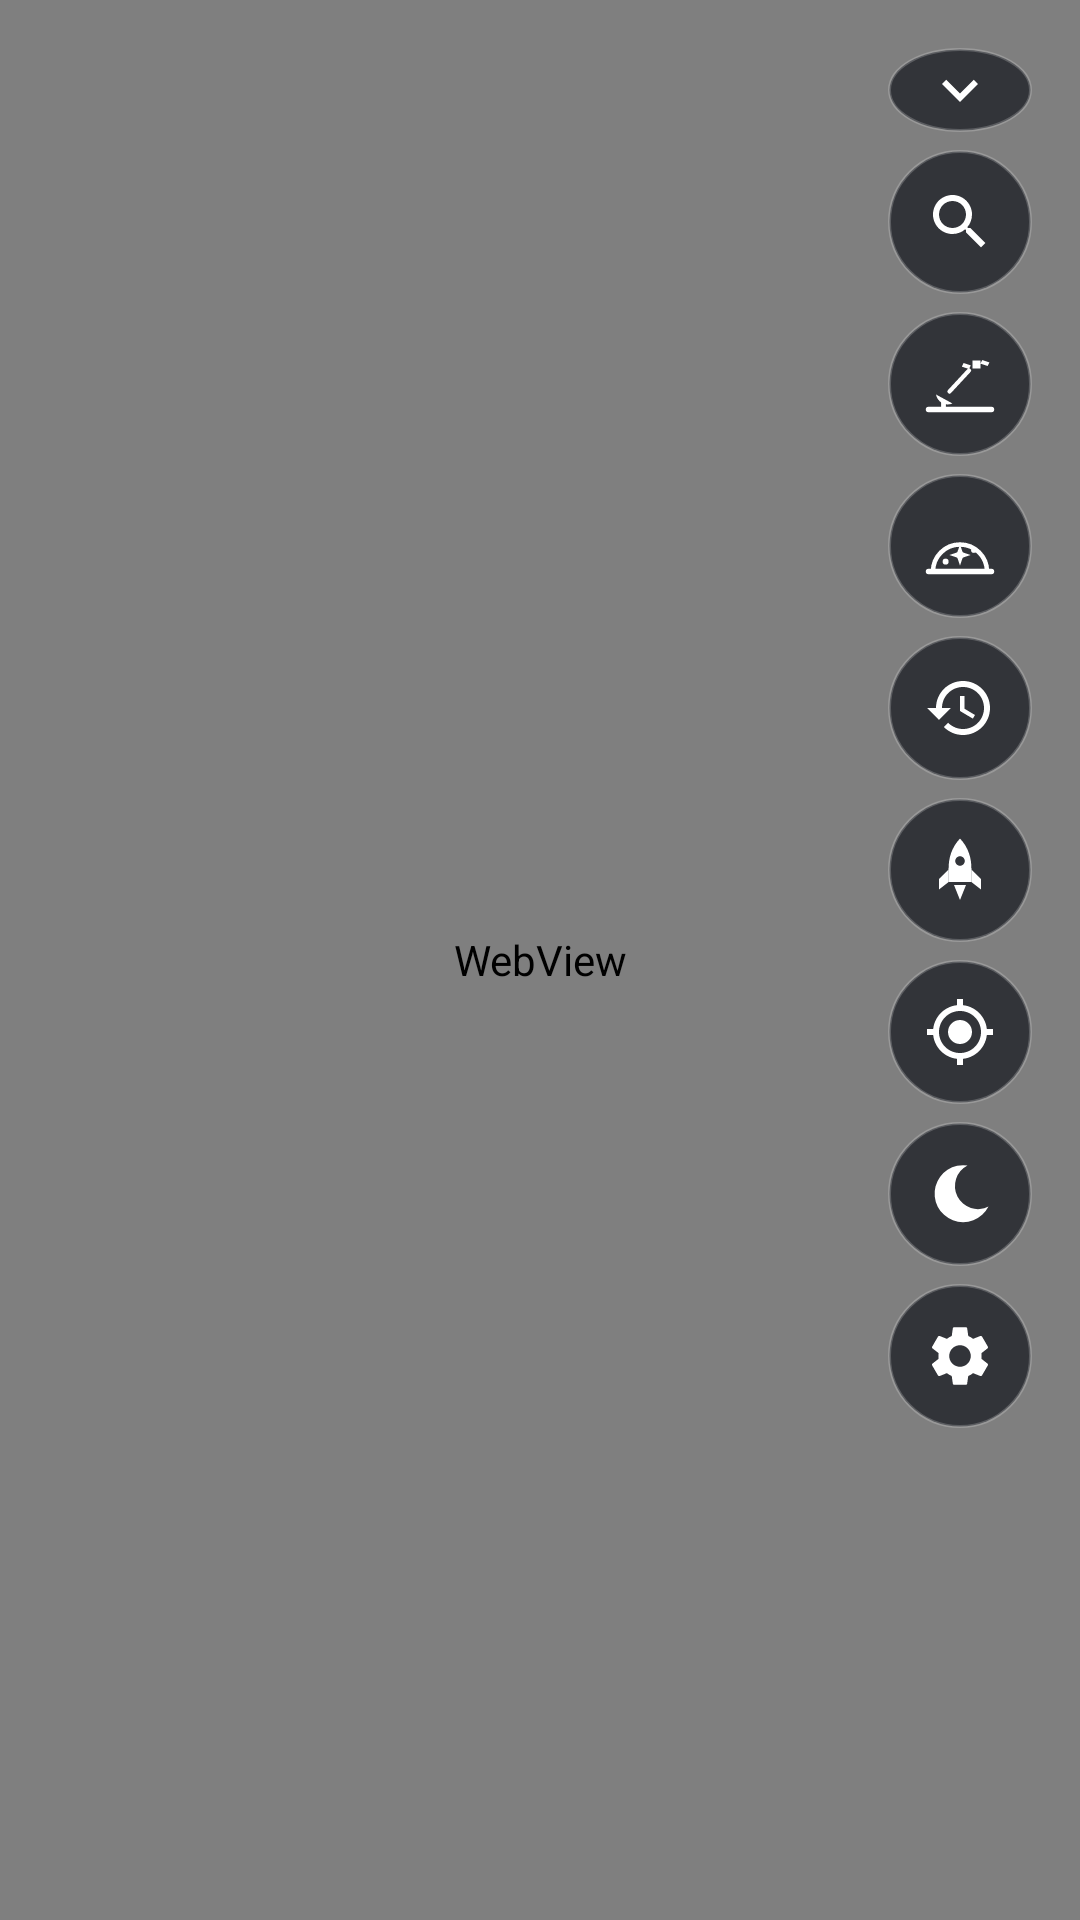

Point at icon controls on the screen. Image size 1080w x 1920h, points as (x=x, y=y).
Centre on my location: (x=959, y=1032)
Hide buttons: (x=959, y=90)
In line of sight from here: (x=959, y=384)
Launches and close approaches: (x=959, y=870)
night: (x=959, y=1194)
Search satellites: (x=959, y=222)
Settings: (x=959, y=1356)
Sky view: (x=959, y=546)
Time: (x=959, y=708)
